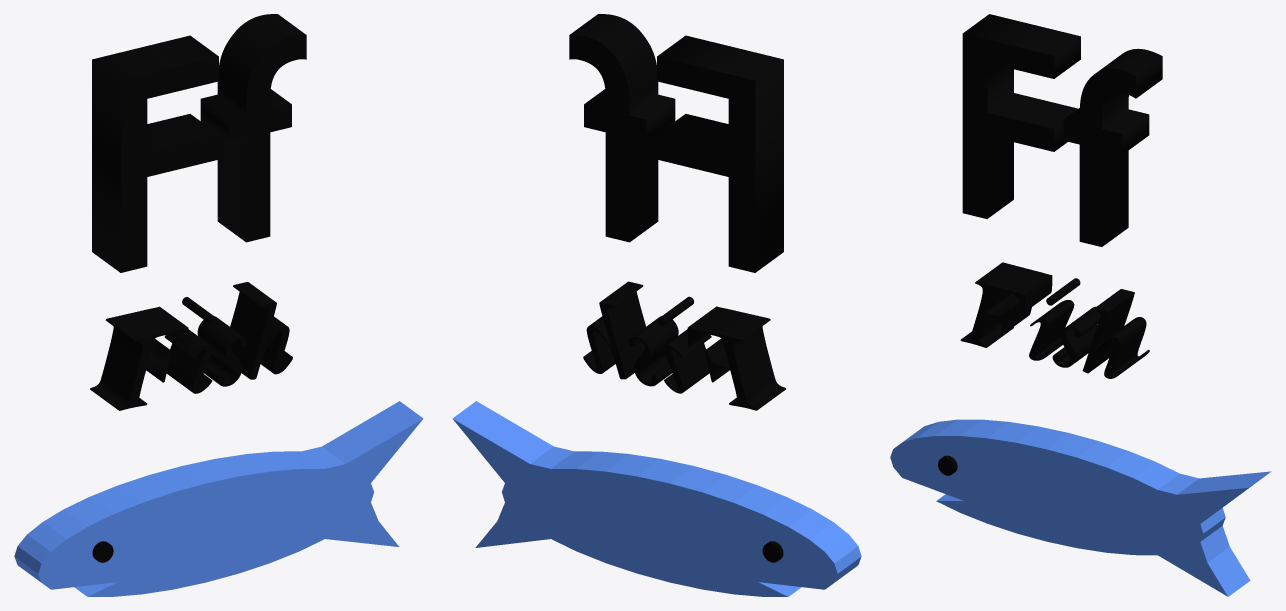
The model's file is Letter_F.glb.
3 renders of one model, left to right at view 1: azimuth 30°, elevation 25°; view 2: azimuth 150°, elevation 25°; view 3: azimuth 330°, elevation 25°, orthographic. The views are drawn at different scales.
Parts seen in each view (by area): view 1: Cylinder, Text, Text.001; view 2: Cylinder, Text, Text.001; view 3: Cylinder, Text, Text.001.
Boxes of the visible parts, x1,y1,x2,y2 form: Cylinder: (14, 401, 423, 596); Text: (92, 14, 306, 272); Text.001: (90, 282, 292, 410); Cylinder: (452, 401, 861, 596); Text: (569, 14, 783, 272); Text.001: (583, 281, 785, 410); Cylinder: (890, 419, 1271, 596); Text: (962, 14, 1162, 246); Text.001: (960, 262, 1149, 378).
Size of the model in its own units: 0.9286 by 1.24 by 0.1242.
